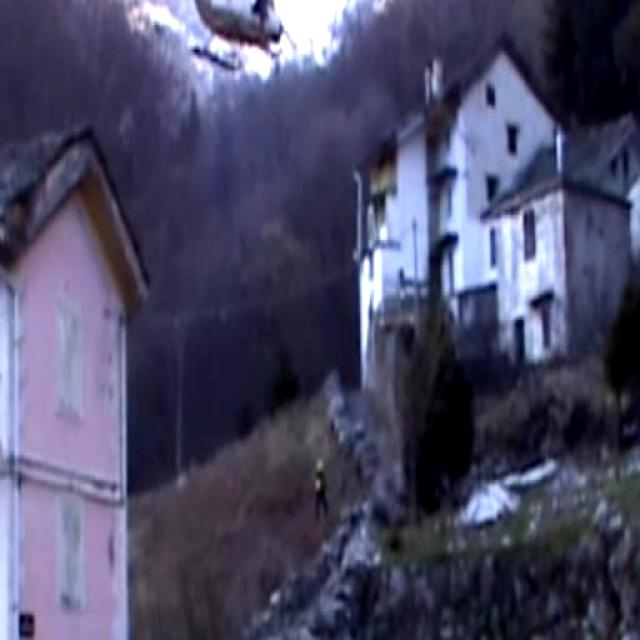drone: (110, 0, 290, 79)
